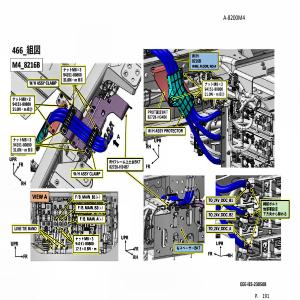PartNumber: (147, 114, 167, 120), (12, 142, 32, 148), (205, 86, 224, 92), (74, 241, 95, 246), (110, 164, 130, 169), (63, 72, 82, 77), (12, 101, 31, 106)
